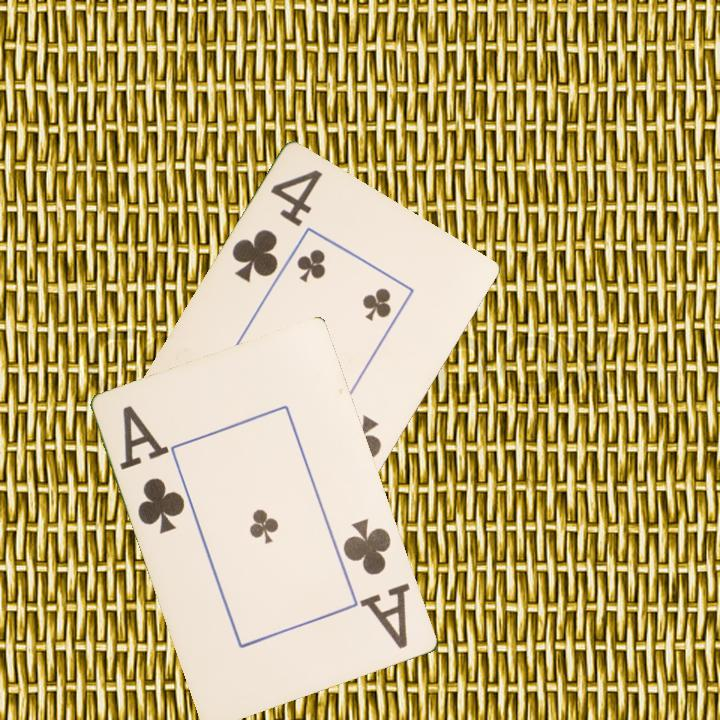4c: (228, 166, 326, 287)
Ac: (339, 515, 414, 652), (116, 402, 189, 538)
